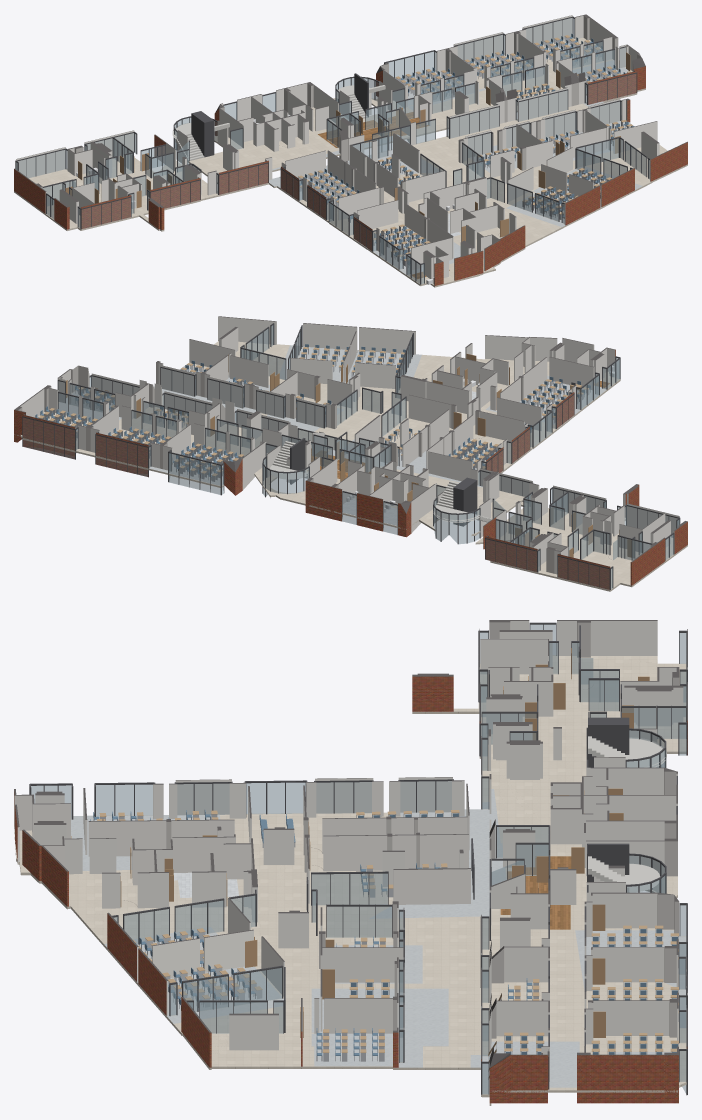
Rendered from floor-4.glb.
3 renders of one model, top to bottom at view 1: azimuth 30°, elevation 25°; view 2: azimuth 150°, elevation 25°; view 3: azimuth 270°, elevation 25°, orthographic. The views are drawn at different scales.
Visible parts, largest first — view 1: P4_Walls, P4_Glass, P4_Floor_Slab, P4_Glass_Mullions, P4_Floor_Zones, P4_Columns, P4_Glass_Frames_Top, P4_Furniture_3_3, P4_Doors, P4_Stair_A_West, P4_Furniture_1_2, P4_Furniture_3_2 (+5 smaller); view 2: P4_Walls, P4_Glass, P4_Floor_Slab, P4_Glass_Mullions, P4_Floor_Zones, P4_Columns, P4_Glass_Frames_Top, P4_Doors, P4_Furniture_3_3, P4_Stair_A_West, P4_Furniture_2_3, P4_Stair_A_East (+4 smaller); view 3: P4_Walls, P4_Floor_Slab, P4_Glass, P4_Floor_Zones, P4_Columns, P4_Glass_Mullions, P4_Glass_Frames_Top, P4_Doors, P4_Furniture_3_2, P4_Stair_A_West, P4_Furniture_3_3, P4_Stair_A_East (+4 smaller).
Boxes of the visible parts, left/top/right/bottom form: P4_Walls: left=14, top=15, right=687, bottom=285; P4_Glass: left=16, top=18, right=649, bottom=283; P4_Floor_Slab: left=14, top=37, right=687, bottom=287; P4_Glass_Mullions: left=15, top=18, right=649, bottom=284; P4_Floor_Zones: left=269, top=43, right=642, bottom=279; P4_Columns: left=35, top=14, right=645, bottom=241; P4_Glass_Frames_Top: left=15, top=16, right=650, bottom=264; P4_Furniture_3_3: left=441, top=33, right=615, bottom=97; P4_Doors: left=65, top=52, right=630, bottom=241; P4_Stair_A_West: left=172, top=111, right=229, bottom=160; P4_Furniture_1_2: left=298, top=168, right=359, bottom=222; P4_Furniture_3_2: left=516, top=68, right=634, bottom=175; P4_Walls: left=17, top=316, right=680, bottom=589; P4_Glass: left=23, top=325, right=679, bottom=589; P4_Floor_Slab: left=14, top=340, right=687, bottom=591; P4_Glass_Mullions: left=22, top=323, right=680, bottom=589; P4_Floor_Zones: left=58, top=345, right=610, bottom=525; P4_Columns: left=14, top=361, right=687, bottom=573; P4_Glass_Frames_Top: left=22, top=323, right=679, bottom=569; P4_Doors: left=66, top=353, right=633, bottom=559; P4_Furniture_3_3: left=35, top=398, right=201, bottom=467; P4_Stair_A_West: left=433, top=477, right=492, bottom=526; P4_Furniture_2_3: left=176, top=444, right=243, bottom=481; P4_Stair_A_East: left=270, top=438, right=308, bottom=484; P4_Walls: left=14, top=620, right=687, bottom=1103; P4_Floor_Slab: left=14, top=655, right=686, bottom=1105; P4_Glass: left=31, top=624, right=686, bottom=1094; P4_Floor_Zones: left=71, top=789, right=686, bottom=1094; P4_Columns: left=166, top=620, right=679, bottom=1103; P4_Glass_Mullions: left=29, top=622, right=687, bottom=1095; P4_Glass_Frames_Top: left=29, top=622, right=687, bottom=1063; P4_Doors: left=120, top=648, right=649, bottom=1037; P4_Furniture_3_2: left=248, top=979, right=528, bottom=1079; P4_Stair_A_West: left=588, top=717, right=666, bottom=767; P4_Furniture_3_3: left=526, top=978, right=678, bottom=1054; P4_Stair_A_East: left=588, top=843, right=660, bottom=892.
Bounding box in the file's own units: 77.05 × 5.65 × 48.96.
19 materials, 5 textured.
